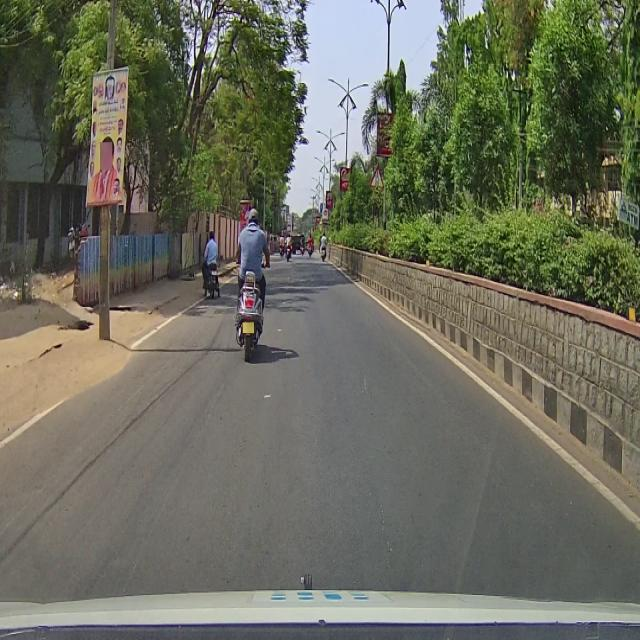electric pole ahead at: (90, 0, 130, 347)
motorcycle ahead at: (234, 278, 268, 358)
